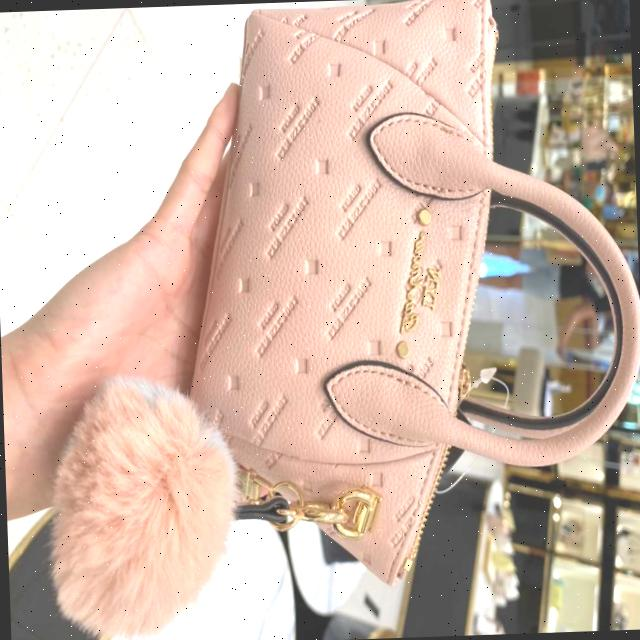Handbag: (188, 0, 543, 592)
